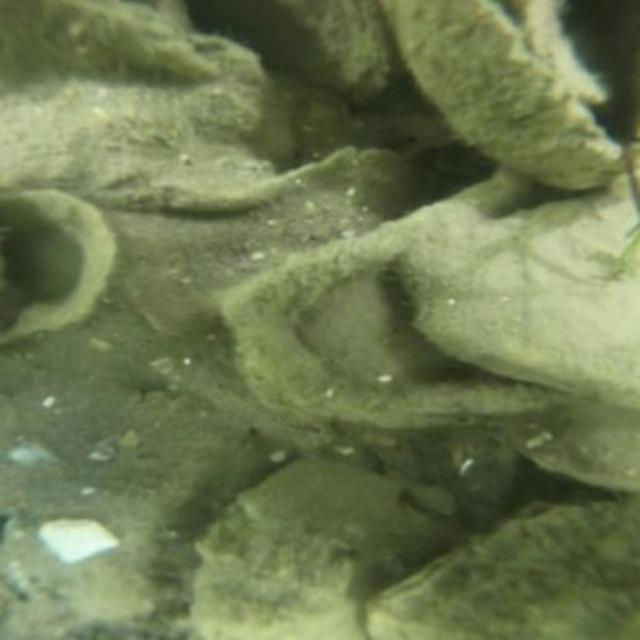Oyster-Closed: (217, 169, 605, 432), (392, 169, 638, 410), (191, 458, 422, 638), (370, 505, 638, 638), (0, 488, 164, 635), (194, 0, 391, 102), (4, 2, 220, 78)
Oyster-Open: (388, 0, 638, 189)
